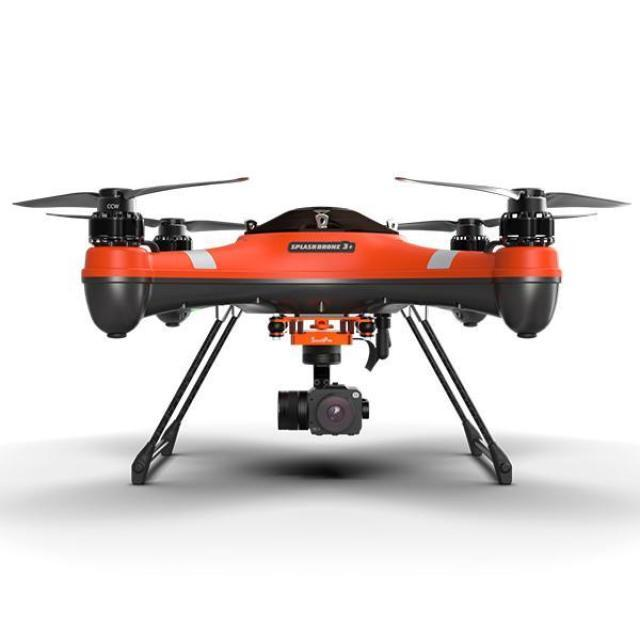drone: (13, 168, 632, 372)
